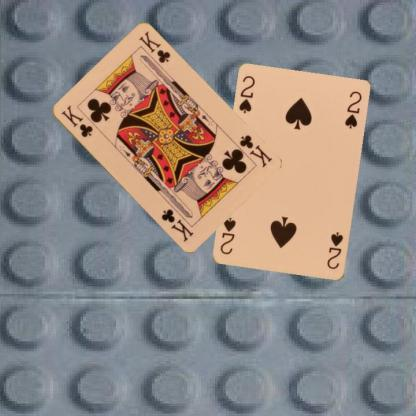2s: (324, 230, 345, 271), (236, 73, 256, 115)
Kc: (236, 132, 274, 169), (58, 102, 93, 139)
